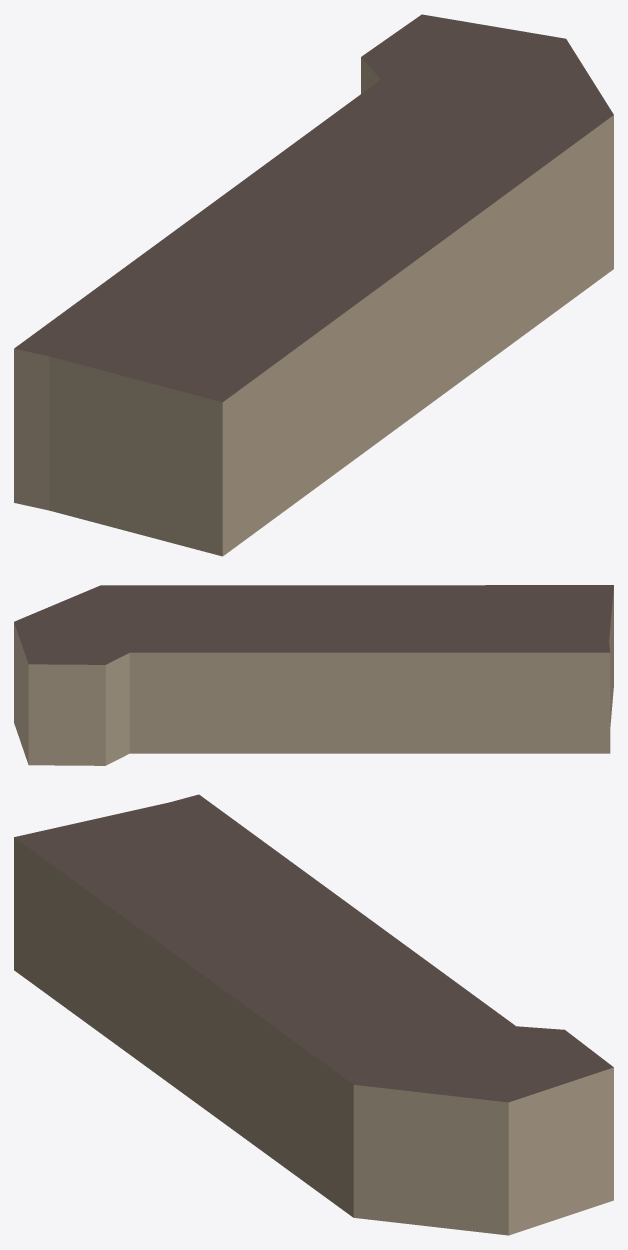
3 views of the same model, one above another, from view 1: azimuth 30°, elevation 25°; view 2: azimuth 150°, elevation 25°; view 3: azimuth 270°, elevation 25° (orthographic). The views are drawn at different scales.
Visible parts, largest first — view 1: HP-w369238022; view 2: HP-w369238022; view 3: HP-w369238022.
Boxes of the visible parts, x1=… form: HP-w369238022: x1=14, y1=14, x2=613, y2=556; HP-w369238022: x1=14, y1=585, x2=613, y2=765; HP-w369238022: x1=14, y1=794, x2=613, y2=1235.
Size of the model in its own units: 44.68 by 9 by 36.78.
